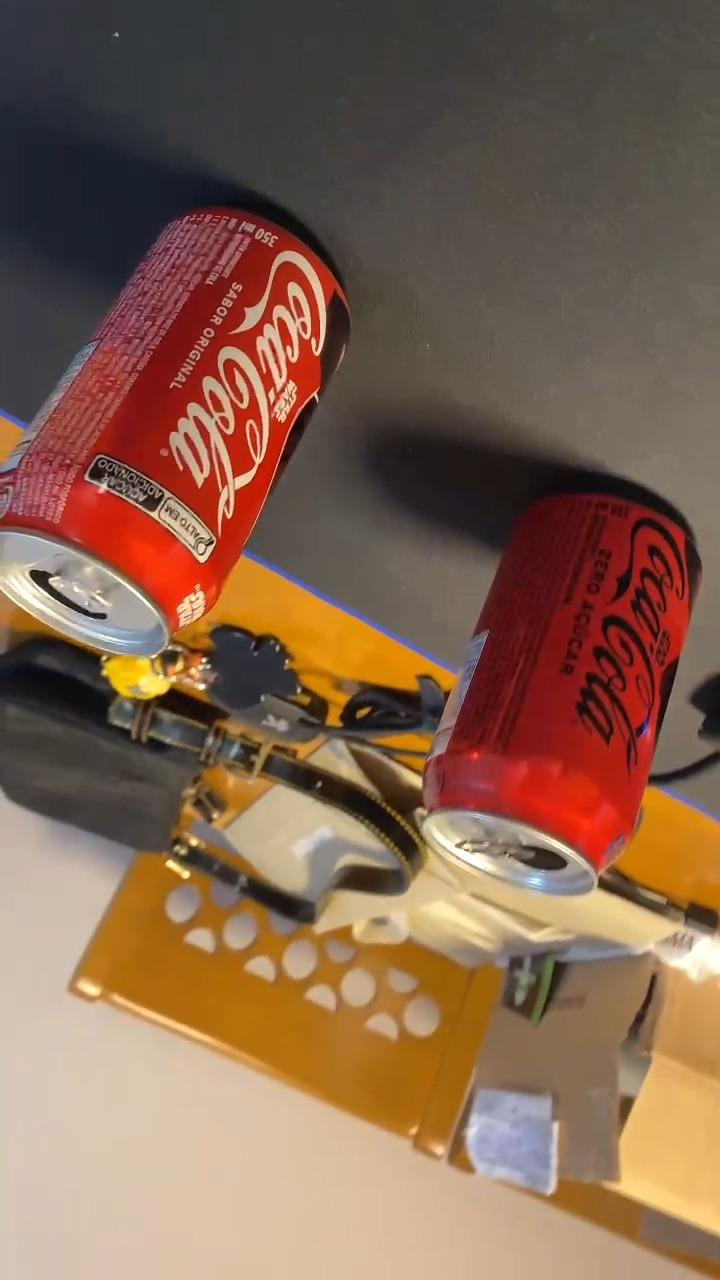coke: (0, 203, 388, 655), (410, 487, 704, 903)
